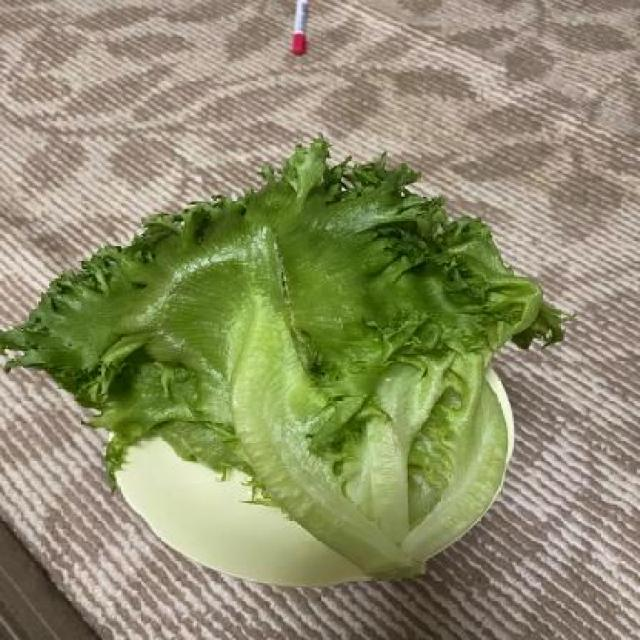Lettuce: (0, 142, 569, 593)
